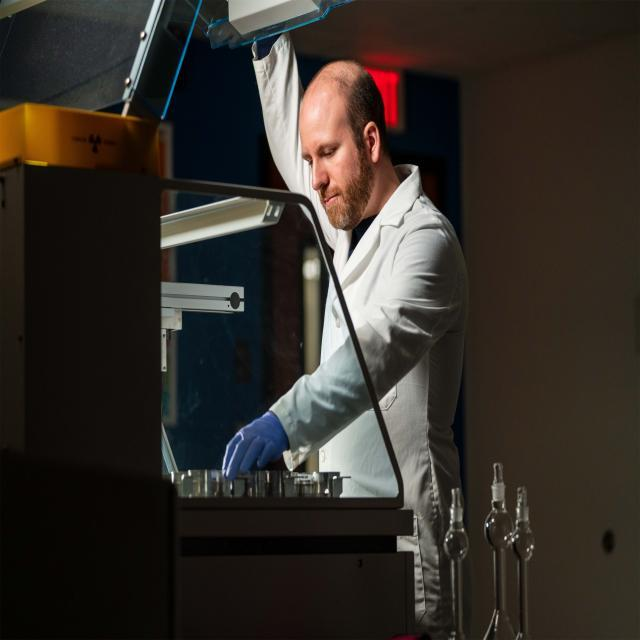No_Goggles: (299, 130, 356, 172)
No_Helmet: (300, 54, 382, 122)
